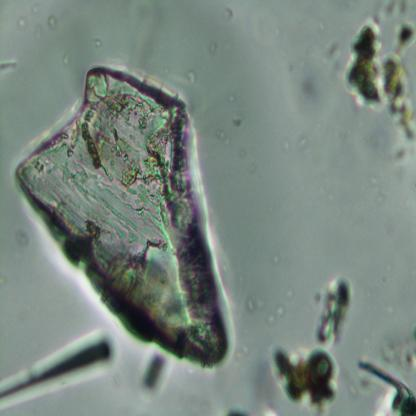Background material: (267, 280, 348, 410), (347, 13, 416, 144), (0, 334, 116, 393), (355, 359, 416, 415), (292, 62, 330, 120), (381, 323, 416, 374), (134, 352, 172, 393), (255, 356, 277, 408), (324, 32, 346, 72), (344, 371, 373, 396), (8, 226, 34, 246), (240, 295, 257, 319), (0, 56, 21, 74), (45, 9, 59, 33), (229, 403, 253, 416), (390, 147, 407, 161), (221, 8, 237, 21), (297, 134, 311, 148), (34, 22, 44, 40), (188, 69, 200, 84), (275, 303, 287, 317), (16, 18, 30, 30), (218, 130, 229, 142), (209, 43, 220, 54), (60, 54, 70, 65), (235, 116, 243, 128), (266, 313, 274, 325), (243, 344, 247, 363), (284, 142, 290, 149), (99, 39, 103, 49)
Fragment: (4, 61, 234, 367)
